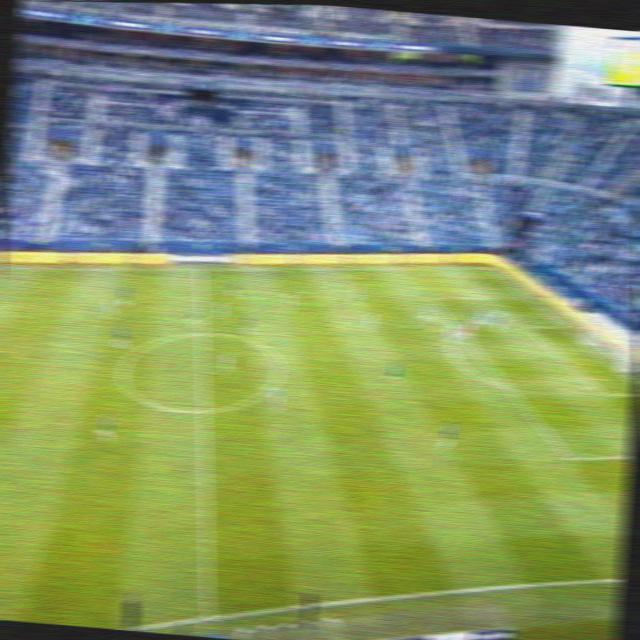bigarea_bottom_inner: (560, 453, 578, 466)
bigarea_top_inner: (421, 291, 438, 303)
bigarea_top_outter: (515, 290, 533, 303)
bottom_arc_area_intersection: (499, 381, 517, 394)
corner: (480, 261, 498, 274)
halfcircle_bottom: (195, 405, 212, 417)
halfcircle_top: (194, 327, 211, 340)
midline_bottom_intersection: (198, 610, 218, 625)
midline_top_intersection: (192, 264, 210, 277)
smallarea_bottom_inner: (596, 387, 614, 400)
smallarea_top_inner: (519, 320, 537, 333)
smallarea_top_outter: (552, 319, 570, 332)
top_arc_area_intersection: (453, 328, 470, 339)
